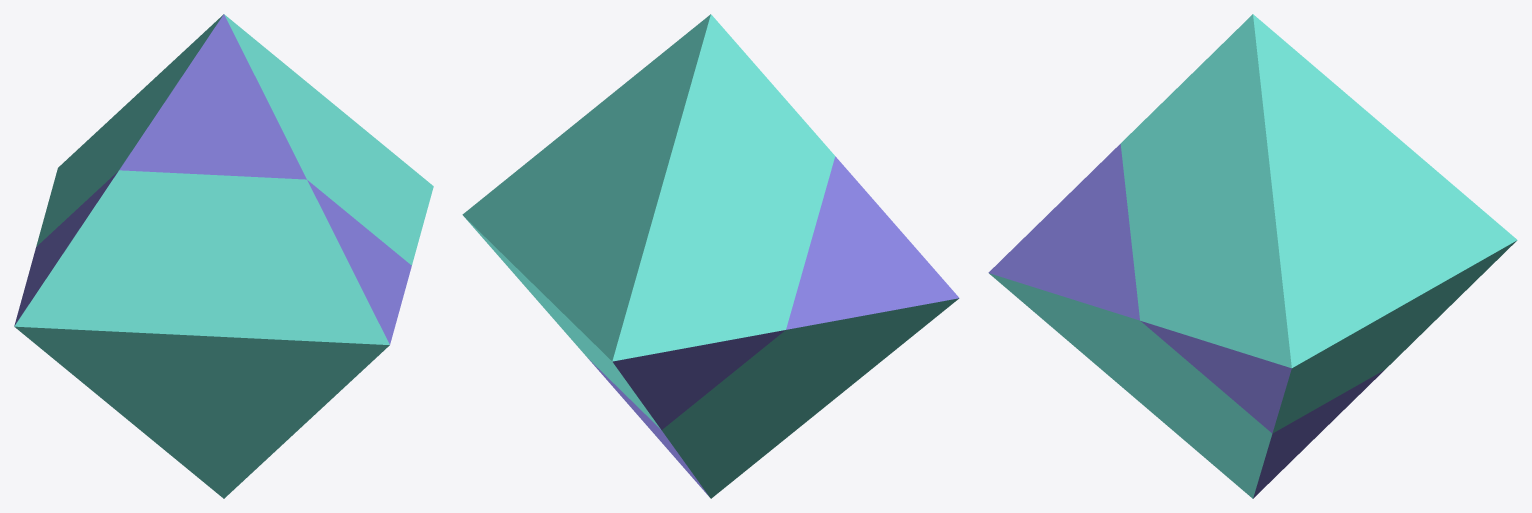
File: octahedron3.glb
3 renders of one model, left to right at view 1: azimuth 30°, elevation 25°; view 2: azimuth 150°, elevation 25°; view 3: azimuth 270°, elevation 25°, orthographic.
Visible parts, largest first — view 1: Solid2, Solid1, Solid3; view 2: Solid2, Solid3, Solid1; view 3: Solid2, Solid3, Solid1.
Boxes of the visible parts, bbox=[...] form: Solid2: bbox=[14, 14, 433, 498]; Solid1: bbox=[119, 14, 306, 179]; Solid3: bbox=[14, 171, 411, 344]; Solid2: bbox=[462, 14, 958, 498]; Solid3: bbox=[612, 156, 959, 429]; Solid1: bbox=[588, 358, 709, 497]; Solid2: bbox=[989, 14, 1517, 498]; Solid3: bbox=[988, 144, 1291, 433]; Solid1: bbox=[1253, 370, 1384, 498].
Bounding box in the file's own units: 1.98 × 2 × 1.98.
